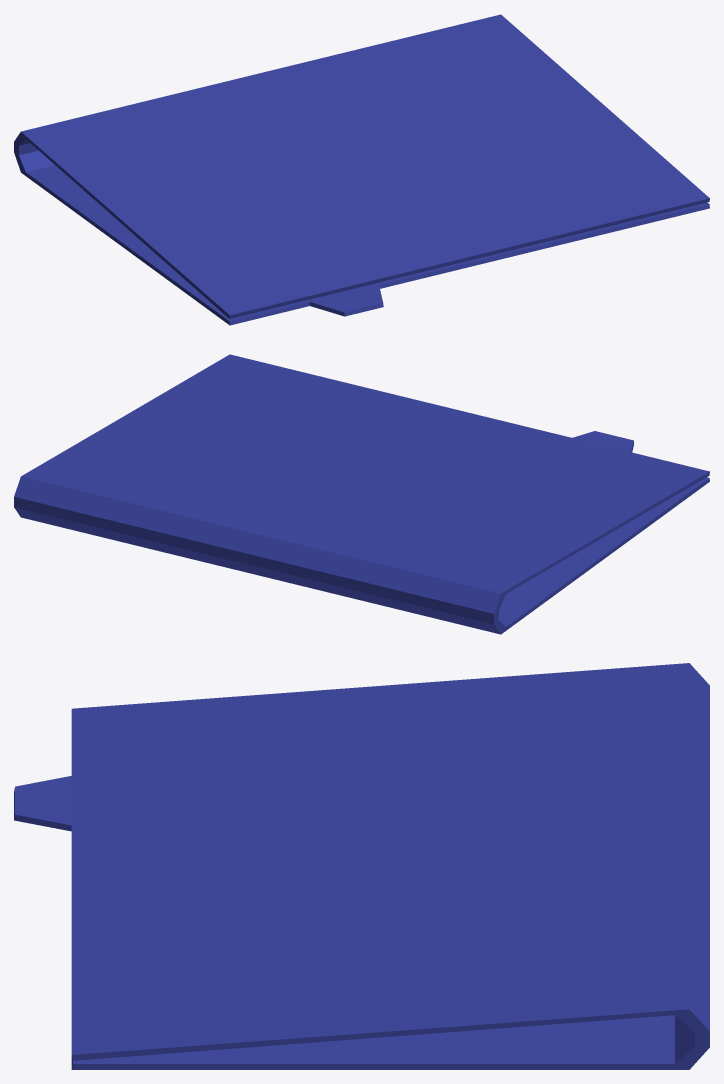
The model's file is folder3.fbx.
3 renders of one model, top to bottom at view 1: azimuth 30°, elevation 25°; view 2: azimuth 150°, elevation 25°; view 3: azimuth 270°, elevation 25°, orthographic. The views are drawn at different scales.
Parts seen in each view (by area): view 1: folder3; view 2: folder3; view 3: folder3.
Boxes of the visible parts, x1,y1,x2,y2 form: folder3: (14,14,709,325); folder3: (14,354,709,634); folder3: (14,663,709,1069).
Bounding box in the file's own units: 0.3522 × 0.0288 × 0.2991.
